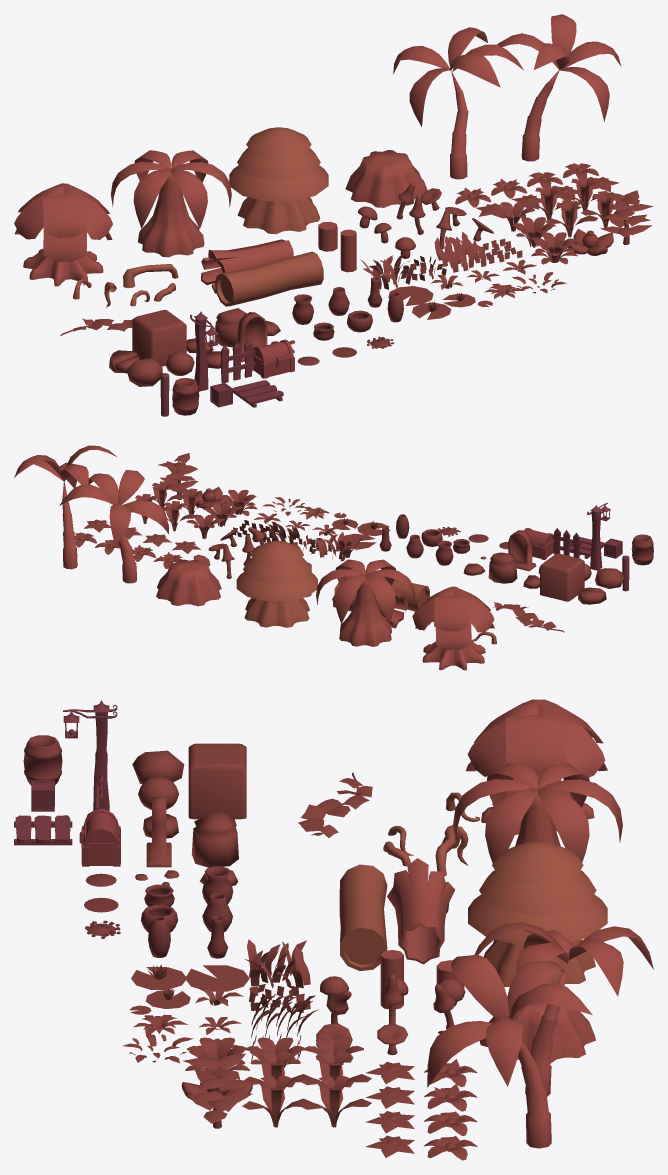
File: worldObjects.fbx
The picture shows the model from 3 angles, top to bottom: view 1: azimuth 30°, elevation 25°; view 2: azimuth 150°, elevation 25°; view 3: azimuth 270°, elevation 25°; orthographic projection. The views are drawn at different scales.
Visible parts, largest first — view 1: tree1, palm3, tree2, palm1, palm2, log2, stump, wall, log1, plant5, grass2, lamppost (+17 smaller); view 2: tree1, palm3, tree2, palm1, stump, palm2, wall, plant5, tomb, roc6, lamppost, log2 (+18 smaller); view 3: tree1, palm2, palm3, tree2, palm1, log1, log2, wall, stump, plant5, roc6, grass8 (+29 smaller).
Boxes of the visible parts, x1=… form: tree1: x1=229, y1=127, x2=328, y2=234; palm3: x1=111, y1=150, x2=231, y2=257; tree2: x1=14, y1=183, x2=112, y2=286; palm1: x1=393, y1=27, x2=523, y2=179; palm2: x1=497, y1=14, x2=621, y2=161; log2: x1=215, y1=251, x2=323, y2=306; stump: x1=345, y1=150, x2=427, y2=207; wall: x1=132, y1=309, x2=186, y2=366; log1: x1=201, y1=239, x2=293, y2=293; plant5: x1=600, y1=190, x2=653, y2=244; grass2: x1=434, y1=232, x2=486, y2=272; lamppost: x1=190, y1=311, x2=218, y2=391; tree1: x1=236, y1=540, x2=317, y2=627; palm3: x1=316, y1=559, x2=415, y2=646; tree2: x1=412, y1=586, x2=494, y2=670; palm1: x1=59, y1=470, x2=168, y2=583; stump: x1=156, y1=559, x2=221, y2=606; palm2: x1=14, y1=445, x2=116, y2=569; wall: x1=540, y1=553, x2=584, y2=601; plant5: x1=158, y1=453, x2=198, y2=499; tomb: x1=508, y1=530, x2=536, y2=571; roc6: x1=488, y1=552, x2=517, y2=583; lamppost: x1=587, y1=503, x2=610, y2=570; log2: x1=346, y1=568, x2=429, y2=611; tree1: x1=468, y1=841, x2=607, y2=987; palm2: x1=427, y1=954, x2=592, y2=1148; palm3: x1=453, y1=763, x2=622, y2=863; tree2: x1=466, y1=699, x2=607, y2=834; palm1: x1=474, y1=922, x2=653, y2=1096; log1: x1=387, y1=858, x2=455, y2=964; log2: x1=339, y1=864, x2=387, y2=970; wall: x1=188, y1=743, x2=246, y2=819; stump: x1=479, y1=1003, x2=595, y2=1063; plant5: x1=183, y1=1053, x2=255, y2=1128; roc6: x1=191, y1=811, x2=238, y2=867; grass8: x1=245, y1=939, x2=310, y2=988.
Size of the model in its own units: 17.18 by 4.03 by 11.
